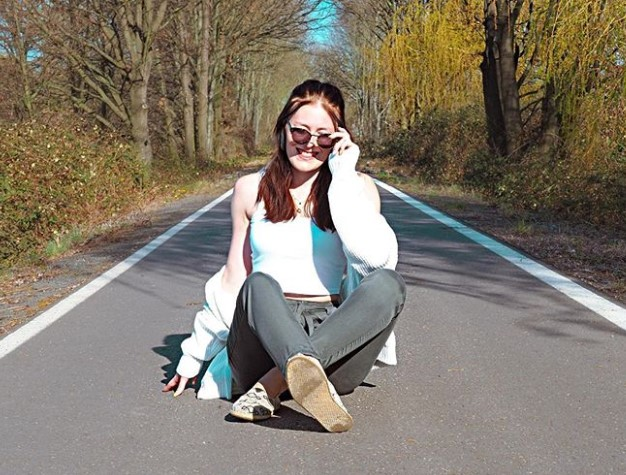face_no_mask: (278, 89, 341, 177)
